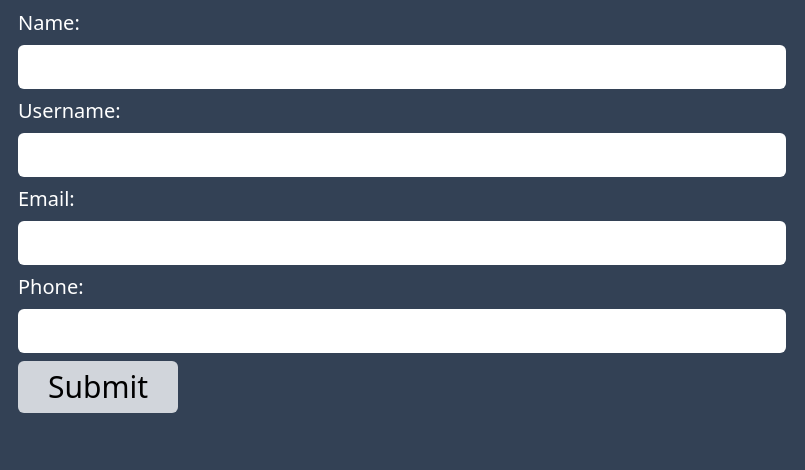
Scenario: Form validation › Username field empty check
Step 1. Type "validName" into the field named "name" → point(402, 67), box [18,45,786,89]
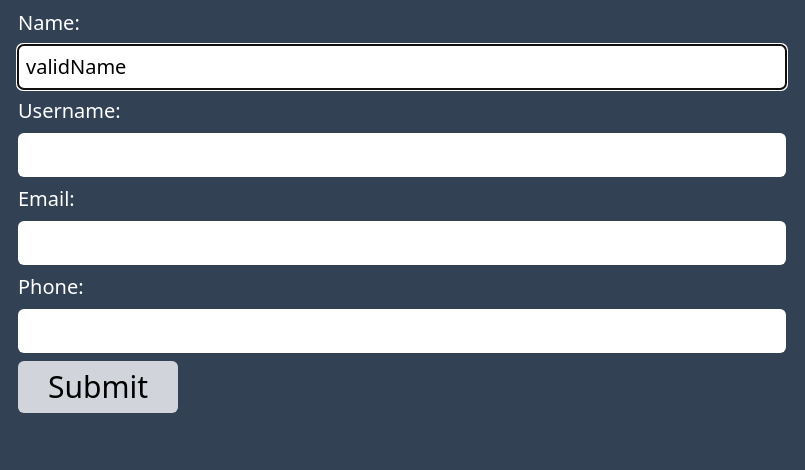
Step 2. Type "validEmail@gmail.com" into the field named "email" → point(402, 243), box [18,221,786,265]
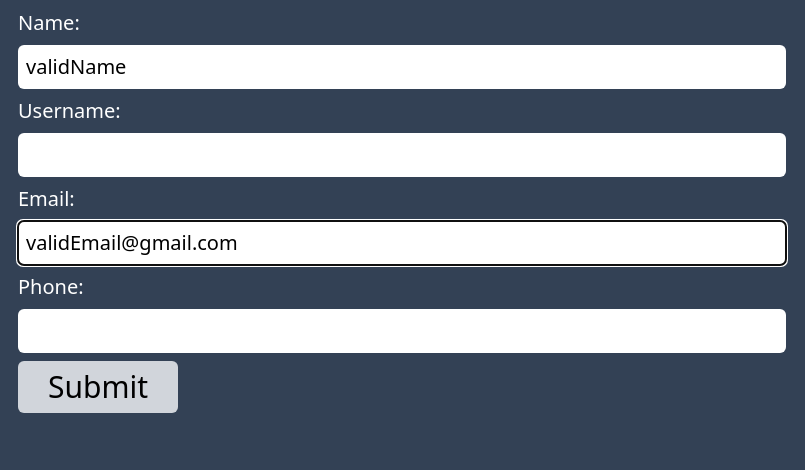
Step 3. Type "01234567891" into the field named "phone" → point(402, 331), box [18,309,786,353]
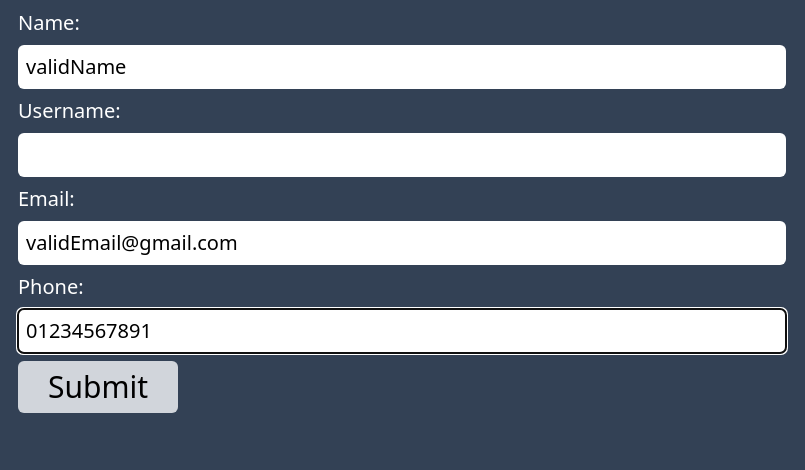
Step 4. Click the submit button → point(98, 387), box [18,361,178,413]
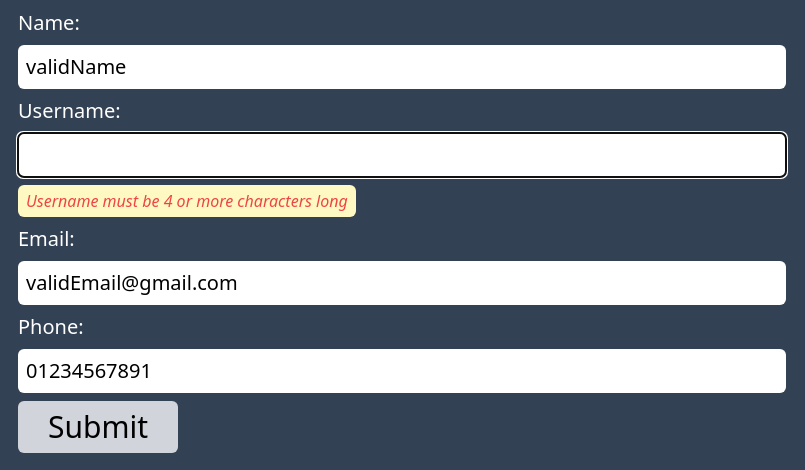
Now the text with test id "userNameError" reads "Username must be 4 or more characters long", box [26,190,348,212]
